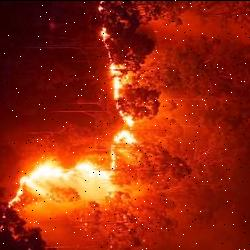fire: (0, 9, 176, 250)
